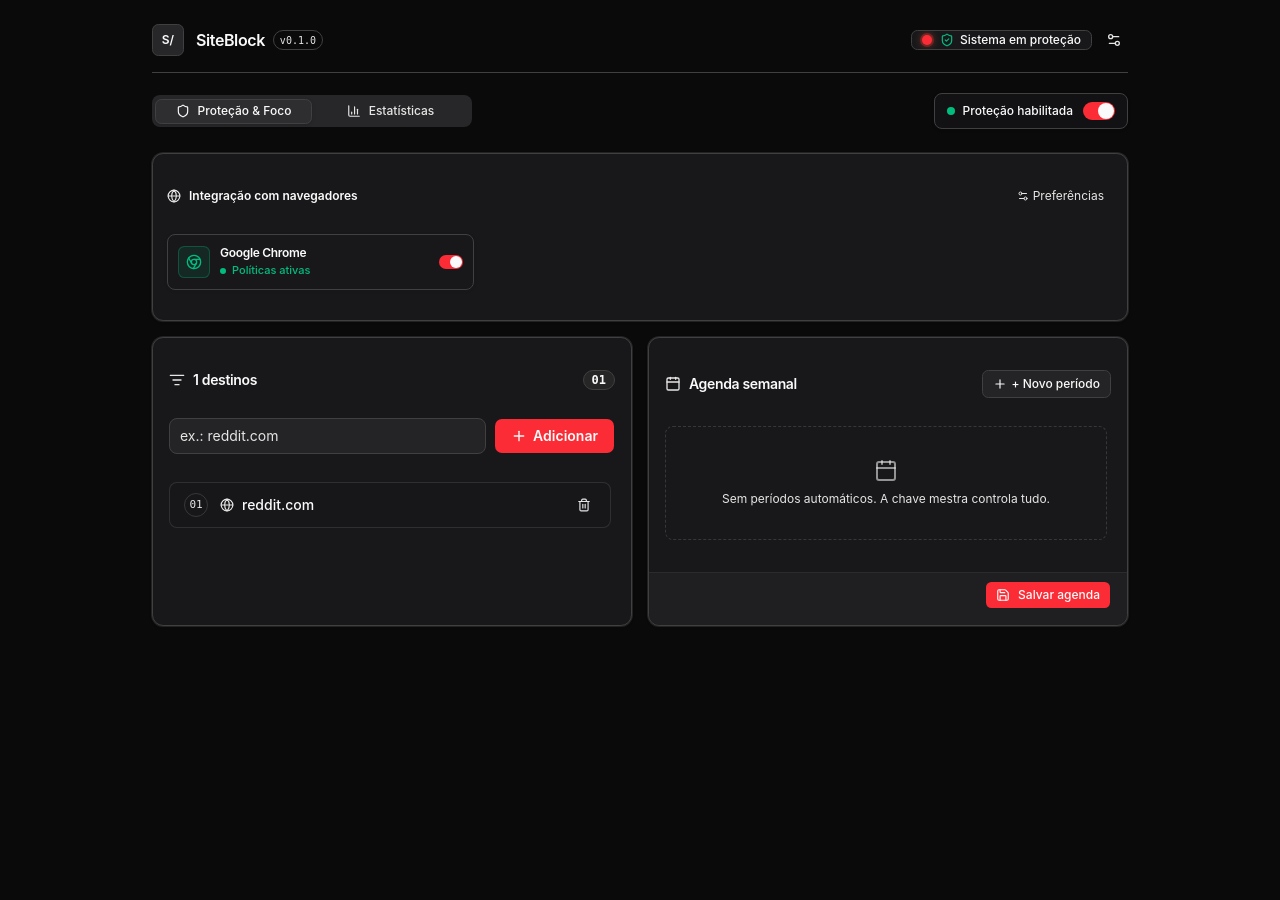
Scenario: App Integration › allows adding a domain through the UI
Expected: the text "SiteBlock" is shown, x1=196 y1=28 x2=265 y2=52
Type "twitter.com" into the field with placeholder "ex.: reddit.com" at [328, 436], box x1=169 y1=418 x2=486 y2=454
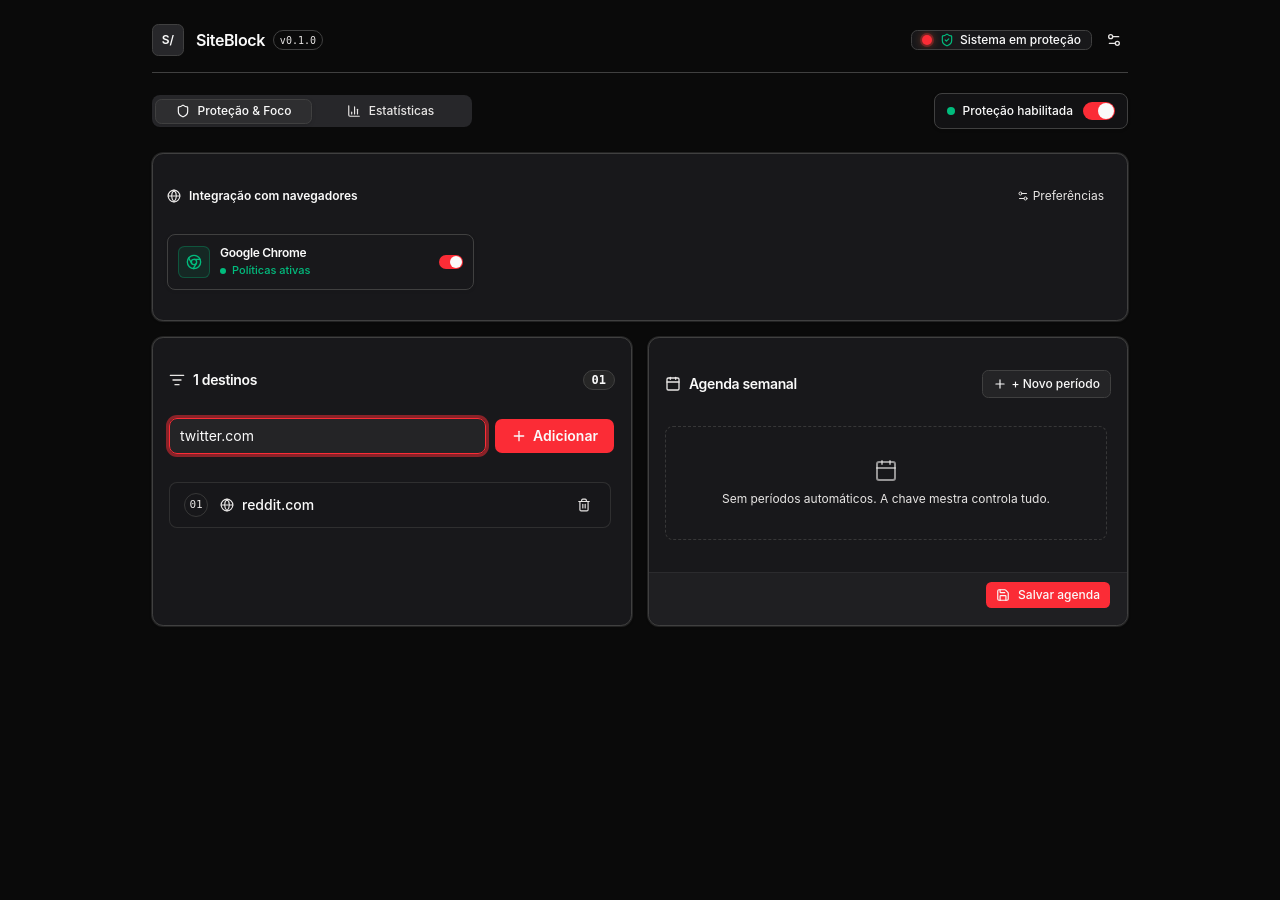
Click the button "Adicionar" at [555, 436], box x1=494 y1=418 x2=615 y2=454
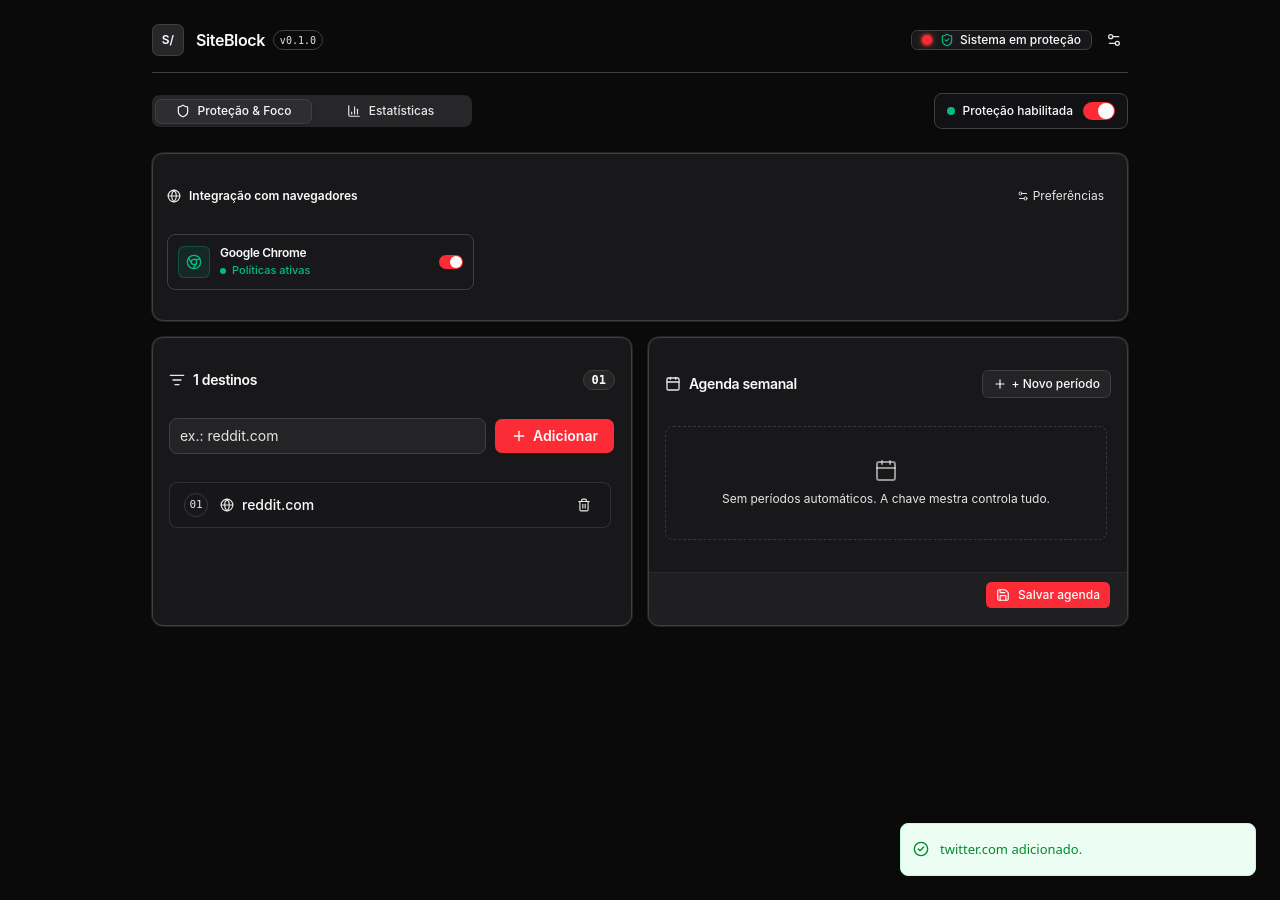
Now the text "twitter.com adicionado." is shown, box x1=940 y1=840 x2=1082 y2=859
